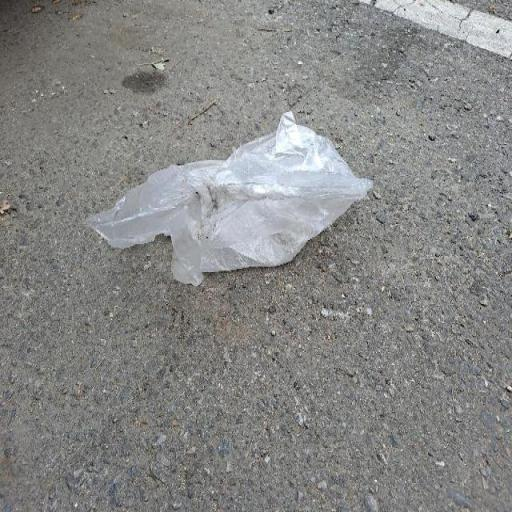plastic-bag: (81, 107, 380, 287)
